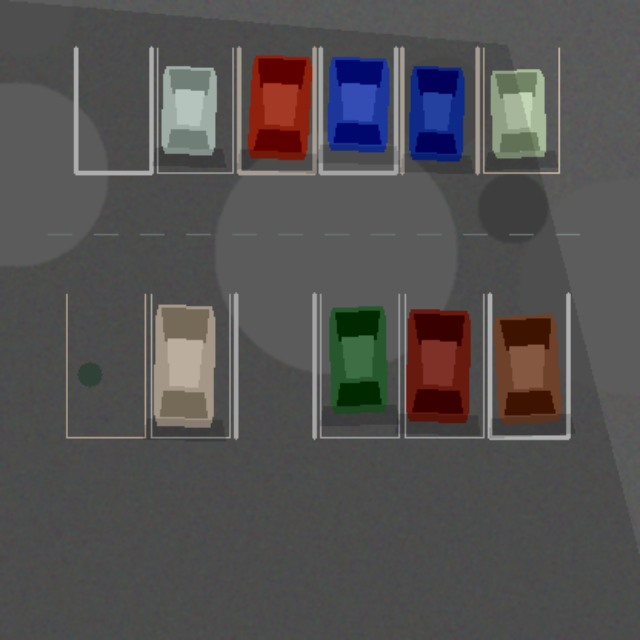space-empty: (66, 294, 145, 437), (235, 294, 314, 437), (75, 48, 151, 172)
space-occupied: (489, 294, 568, 437), (151, 294, 229, 437), (320, 294, 398, 437), (405, 294, 483, 437), (238, 48, 314, 172), (157, 48, 232, 172), (320, 48, 395, 172), (402, 48, 477, 172), (483, 48, 558, 172)
